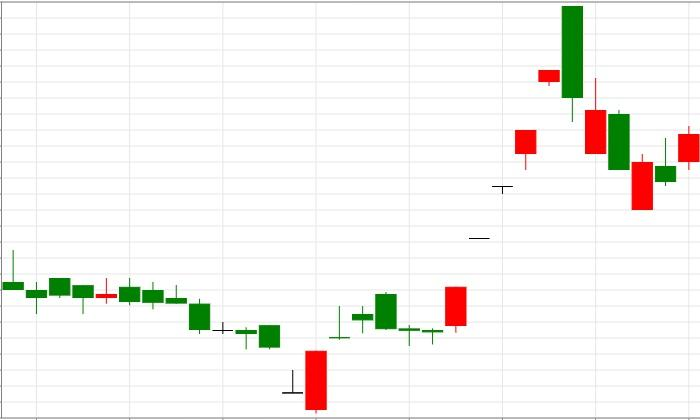bearish_engulfing_fall: (445, 6, 583, 333)
